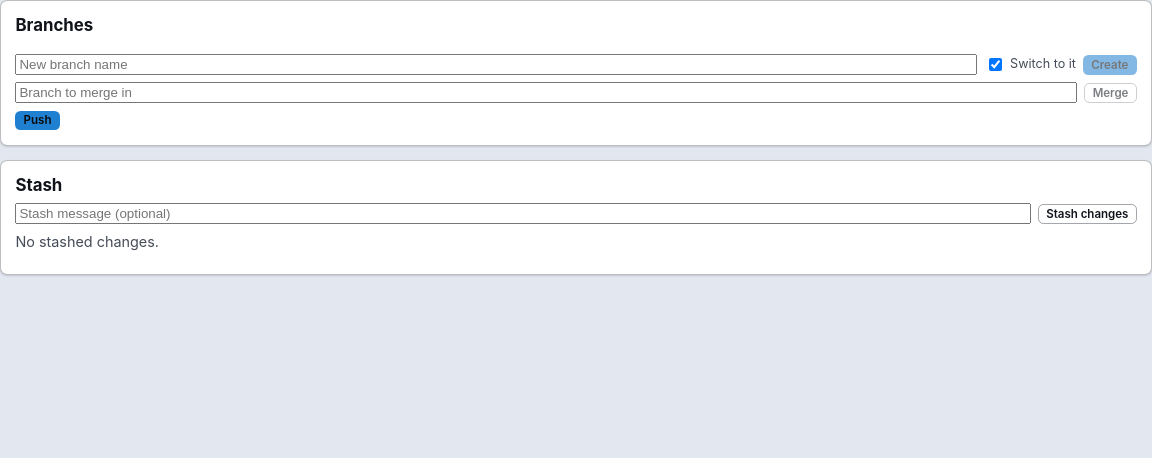
Scenario: GitBranchPanel: merge (SPEC §7.6; issue #234) › Abort merge clears the conflict banner and reloads
Type "feature" into the field with test id "git-branch-merge-name" at (546, 93), box 15,82 -> 1077,103
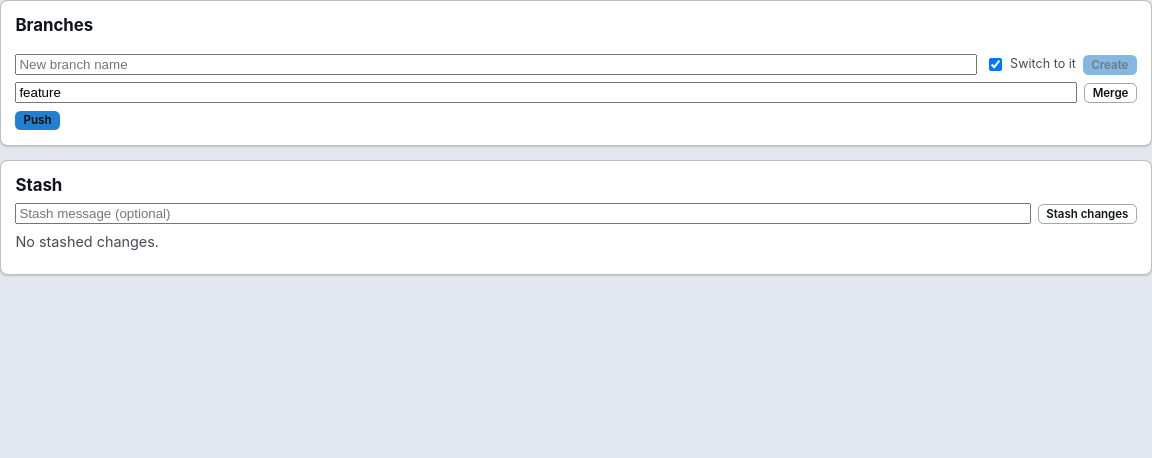
Click the button with test id "git-branch-merge-submit" at (1111, 93), box 1084,83 -> 1137,103
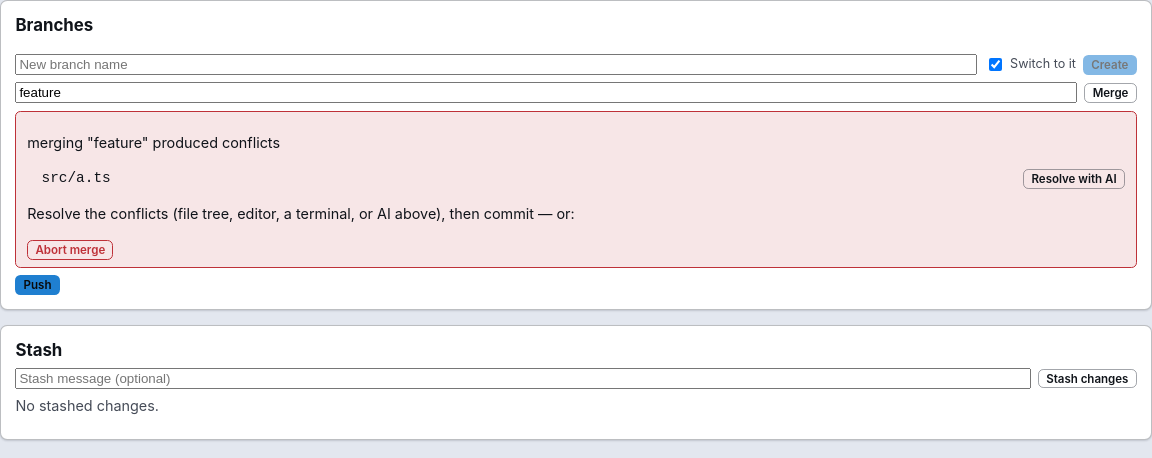
Click the button with test id "git-branch-merge-abort" at (70, 250), box 27,240 -> 113,260
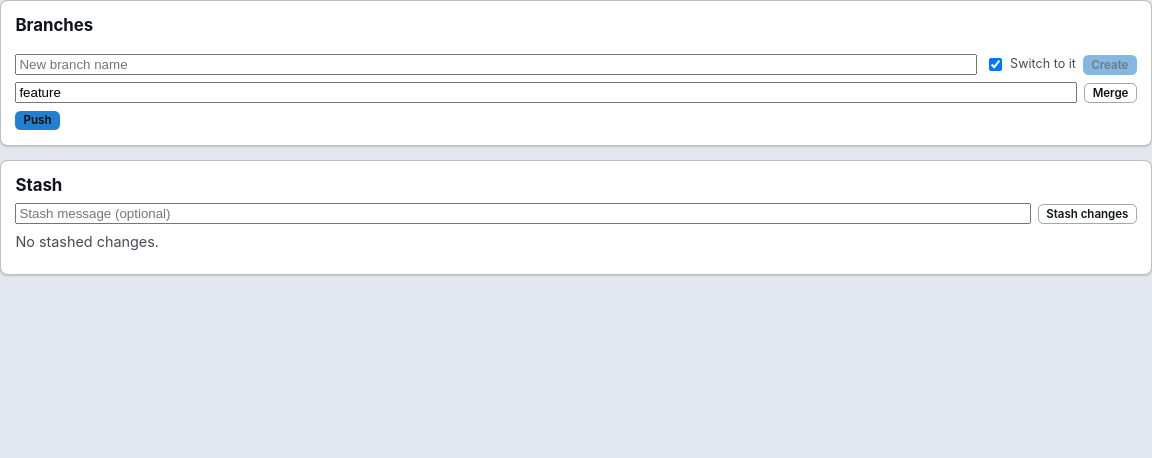
Result: the element with test id "git-branch-merge-conflict" is gone
